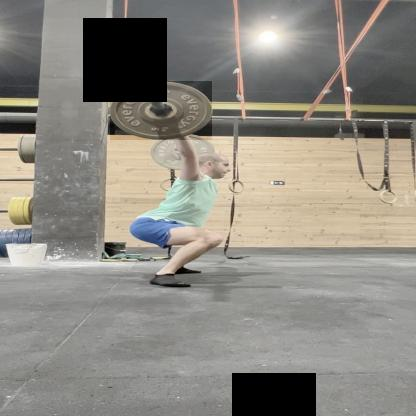barbell: (111, 82, 213, 141)
